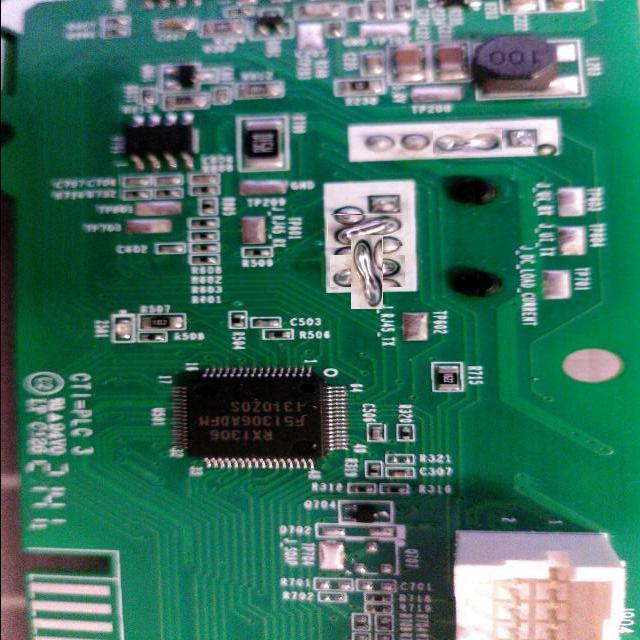Short_circuit: (341, 245, 394, 298), (327, 214, 405, 247), (434, 129, 504, 154)
